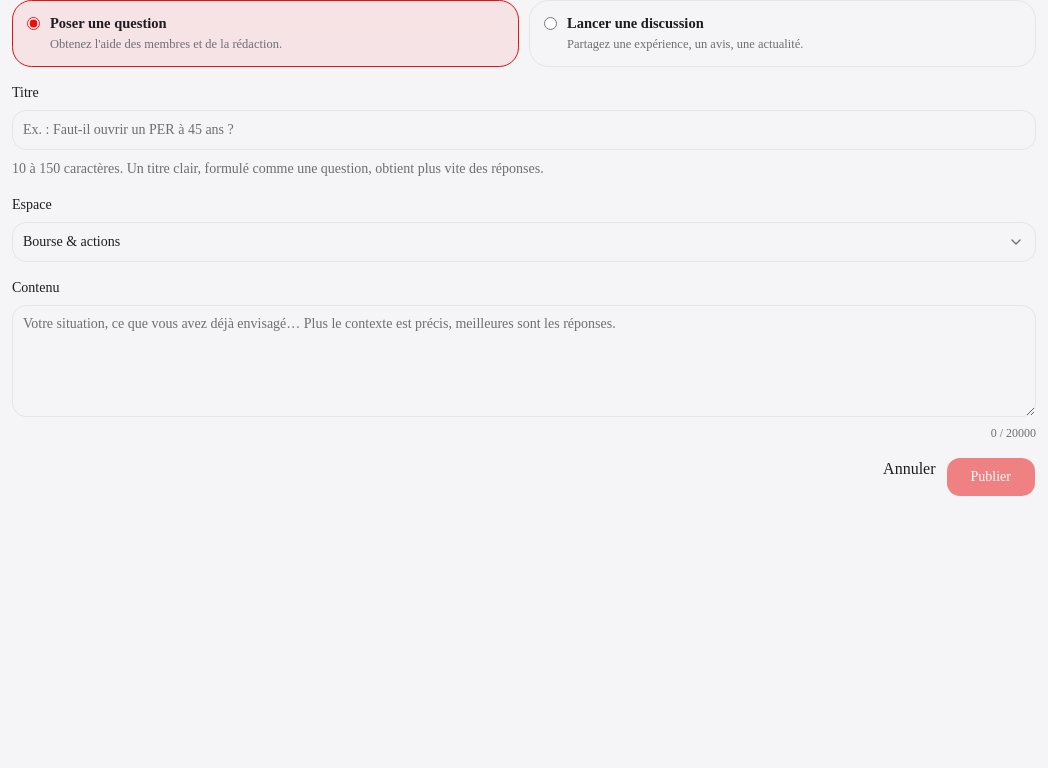
Test case: DiscussionForm › puts an unknown space on its field and keeps the text on an expired session
Type "Faut-il ouvrir un PER à 45 ans ?" into the field labelled "Titre" at coordinates (524, 130), box left=12, top=110, right=1036, bottom=150
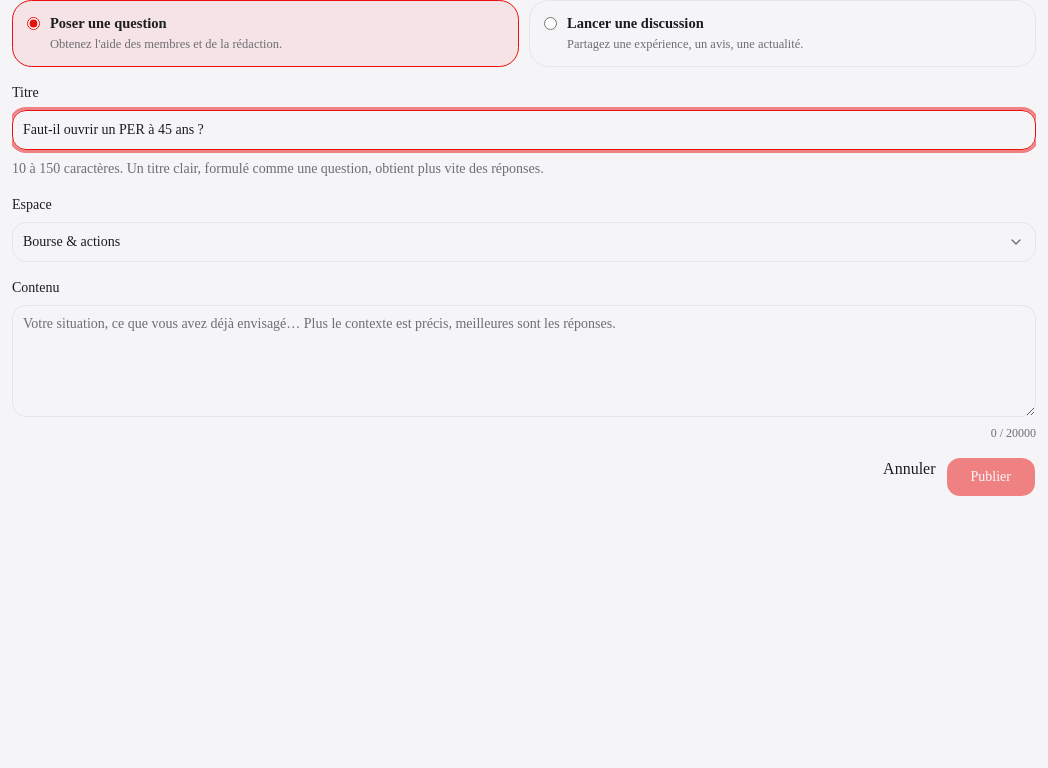
Type "Mon contexte." into the text box labelled "Contenu" at coordinates (524, 361), box left=12, top=305, right=1036, bottom=417
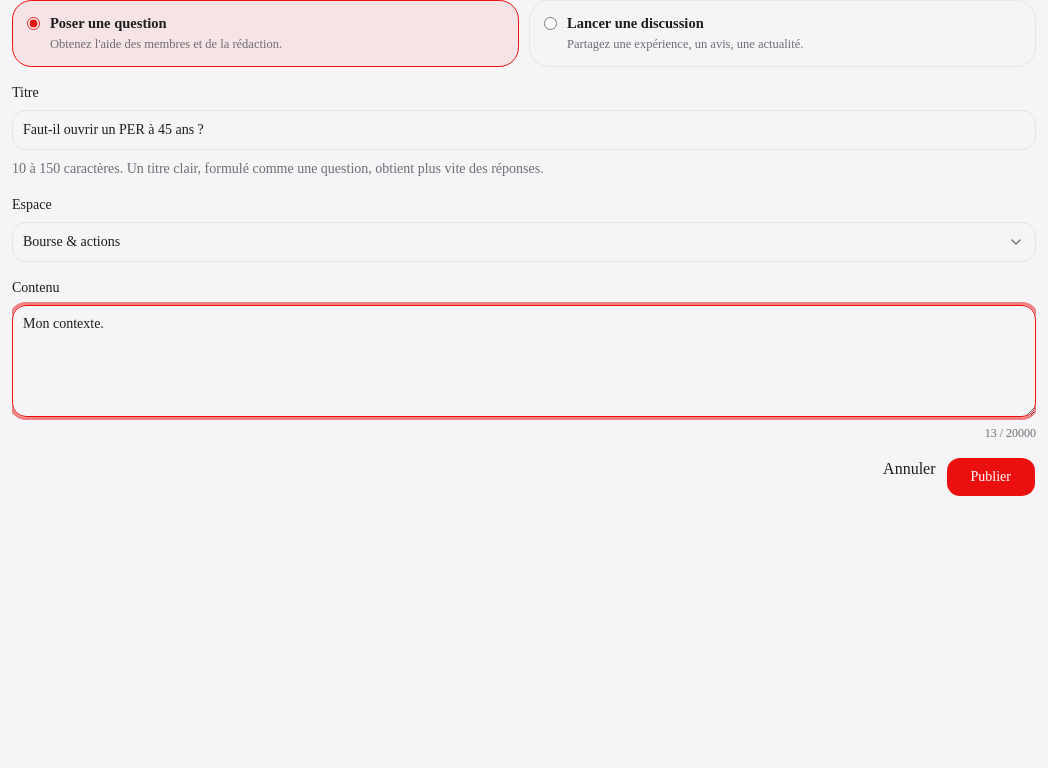
Click the button "Publier" at coordinates (991, 477), box left=946, top=457, right=1036, bottom=497
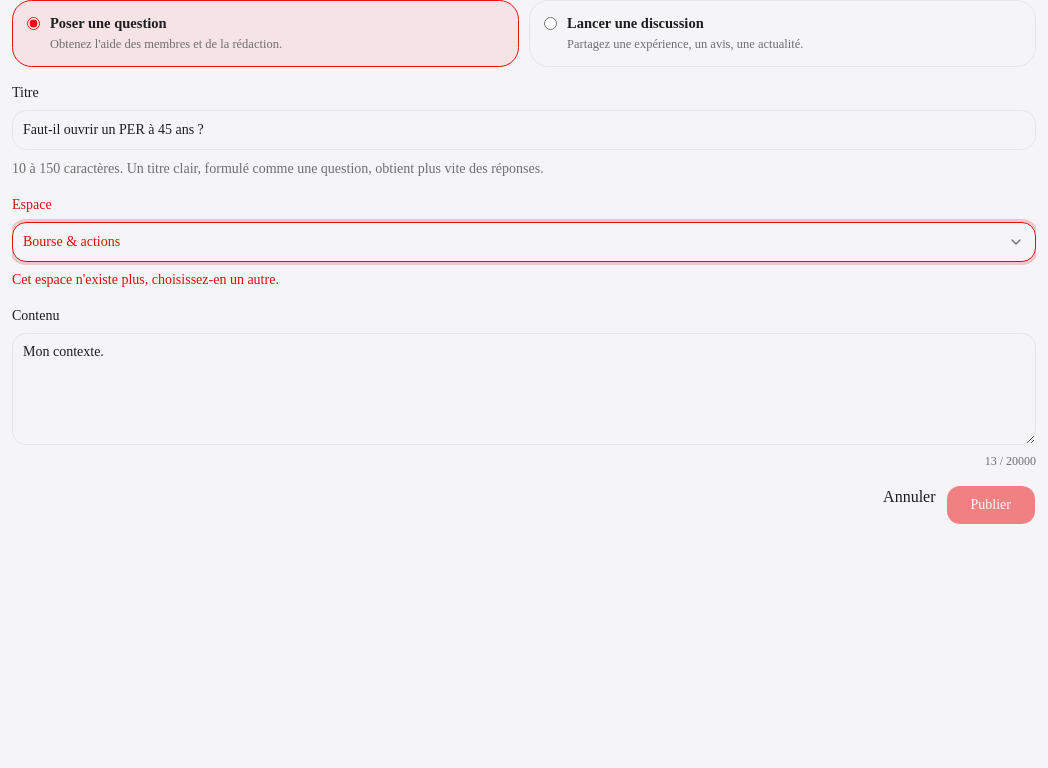
Expected: the text "Cet espace n'existe plus, choisissez-en un autre." is shown, left=12, top=272, right=279, bottom=287
Select "Retraite" in the dropdown labelled "Espace" at coordinates (524, 242), box left=12, top=222, right=1036, bottom=262
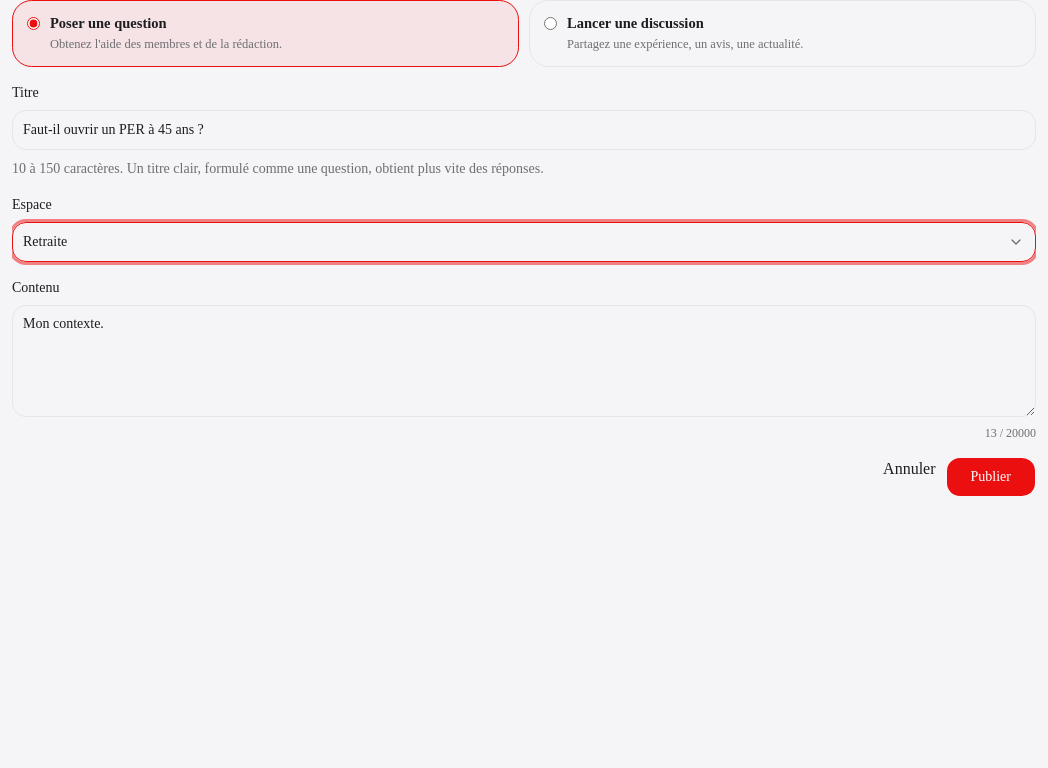
Click the button "Publier" at coordinates (991, 477), box left=946, top=457, right=1036, bottom=497
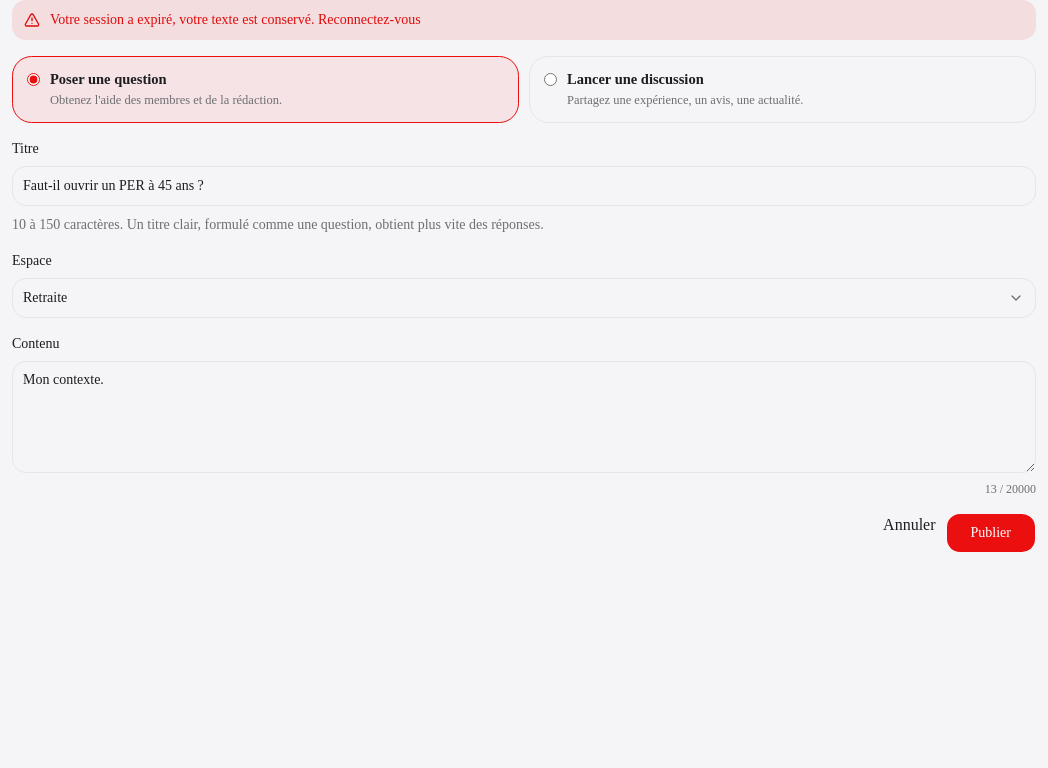
Expected: the message shows "Votre session a expiré", left=50, top=12, right=314, bottom=27
